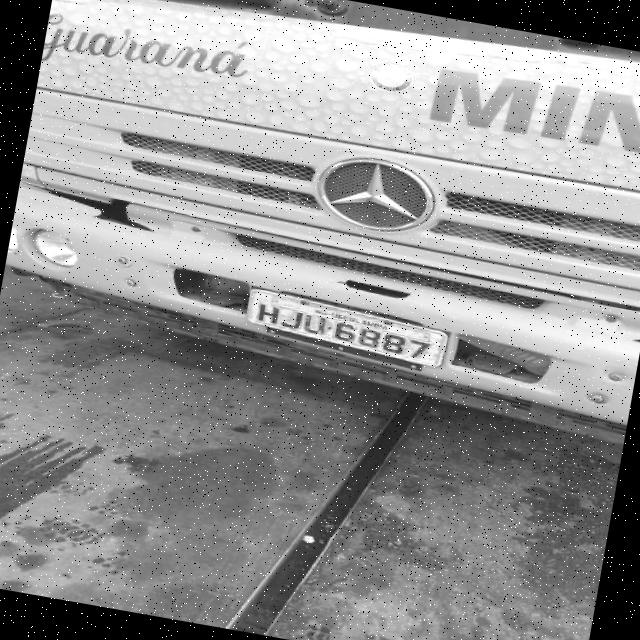placa_antiga: (243, 287, 447, 369)
